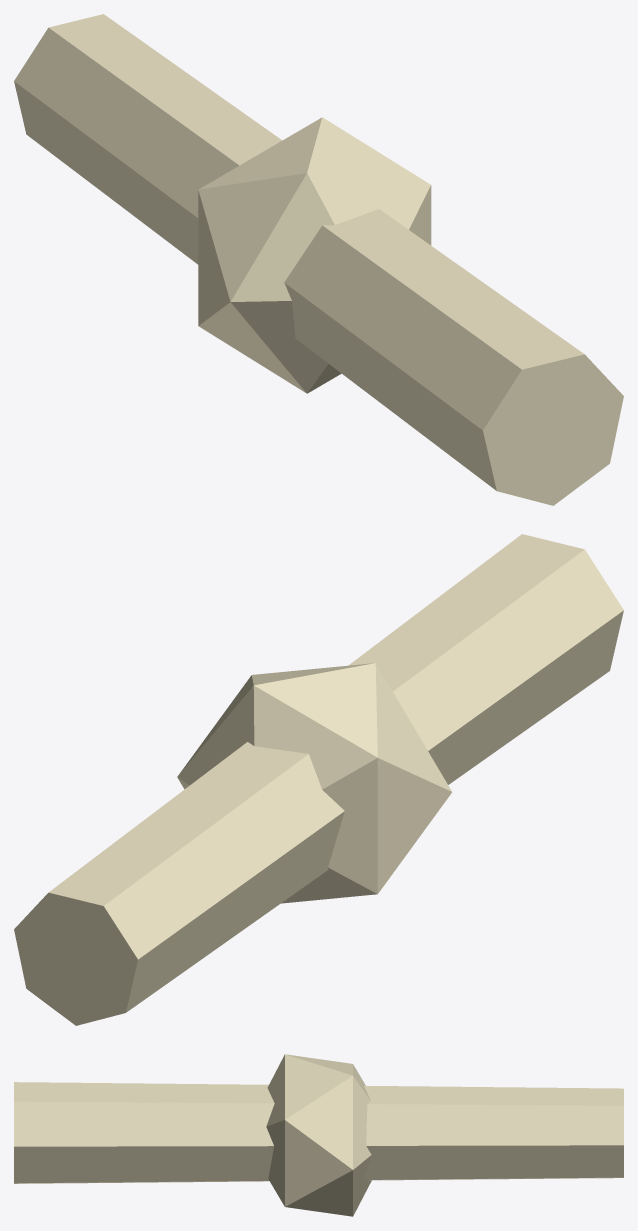
File: Tool_Pestle.fbx
3 views of the same model, one above another, from view 1: azimuth 30°, elevation 25°; view 2: azimuth 150°, elevation 25°; view 3: azimuth 270°, elevation 25° (orthographic). The views are drawn at different scales.
Visible parts, largest first — view 1: Tool_Pestle; view 2: Tool_Pestle; view 3: Tool_Pestle.
Boxes of the visible parts, x1=… form: Tool_Pestle: x1=14, y1=14, x2=623, y2=505; Tool_Pestle: x1=14, y1=534, x2=623, y2=1025; Tool_Pestle: x1=14, y1=1054, x2=623, y2=1216.
Bounding box in the file's own units: 0.1073 × 0.1021 × 0.4.
